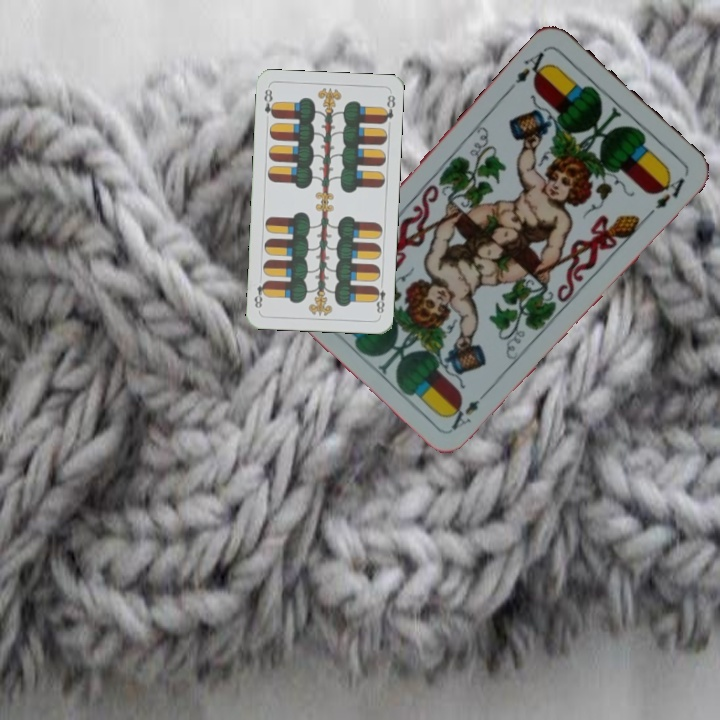E8: (370, 278, 388, 316), (260, 85, 278, 120)
EA: (446, 385, 492, 433), (511, 45, 553, 86)
